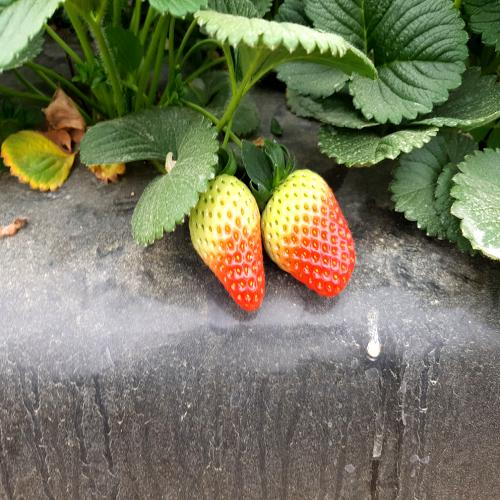partially-ripe: (262, 169, 368, 309), (191, 168, 264, 324)
